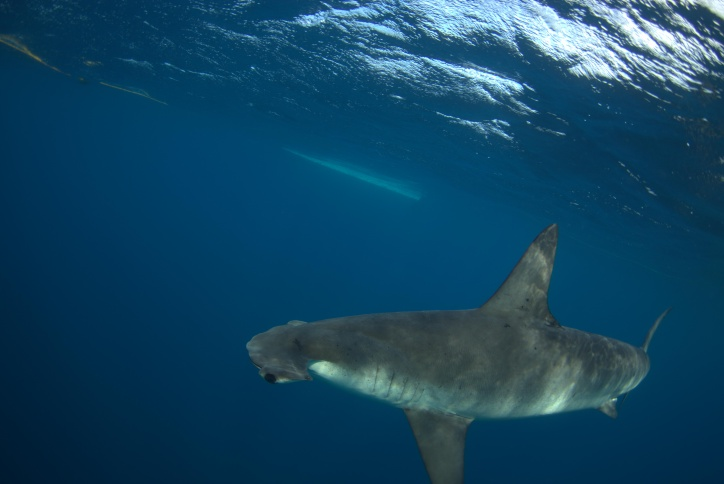Hammer: (239, 212, 686, 484)
